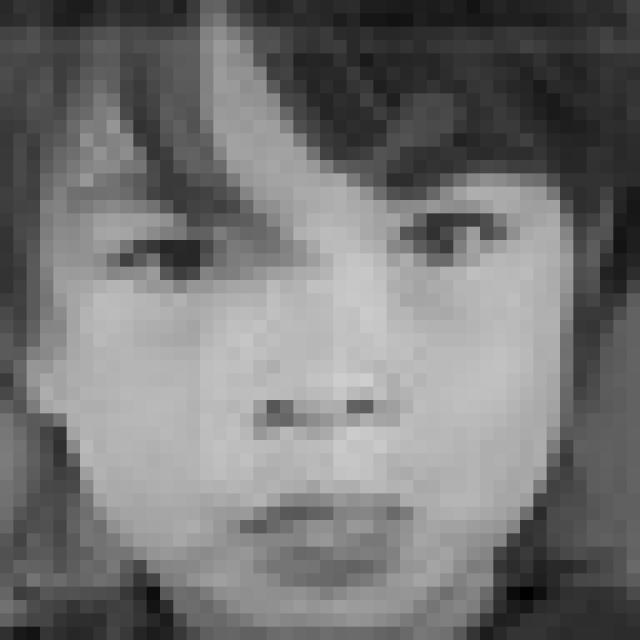neutral: (86, 142, 534, 592)
